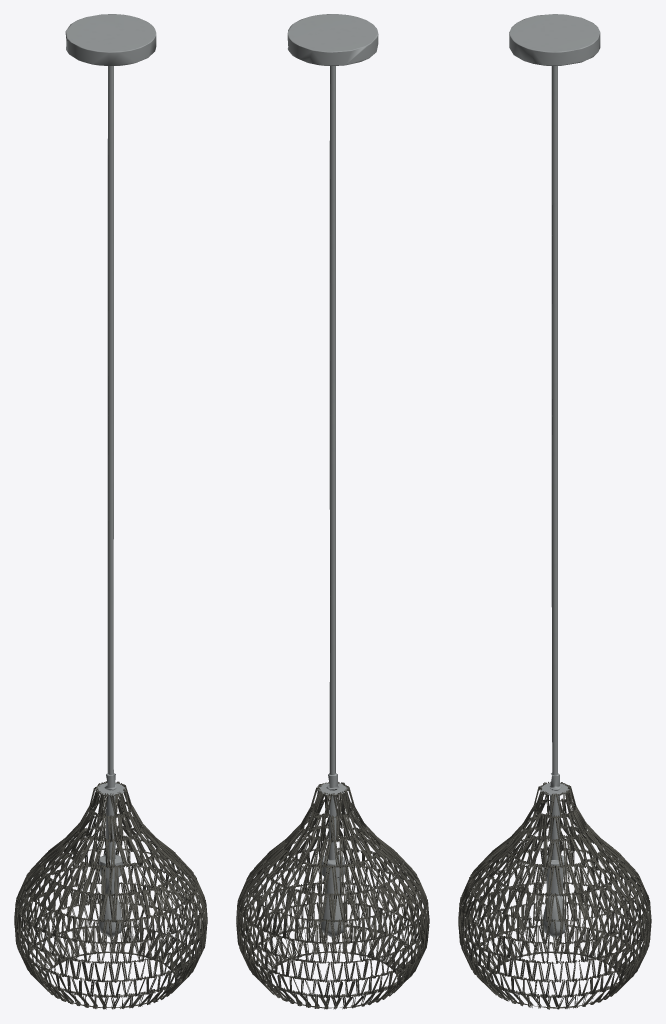
The model's file is abo-B082JHJKGM.glb.
3 renders of one model, left to right at view 1: azimuth 30°, elevation 25°; view 2: azimuth 150°, elevation 25°; view 3: azimuth 270°, elevation 25°, orthographic.
Size of the model in its own units: 0.3549 by 1.92 by 0.3547.
1 material, 1 textured.
